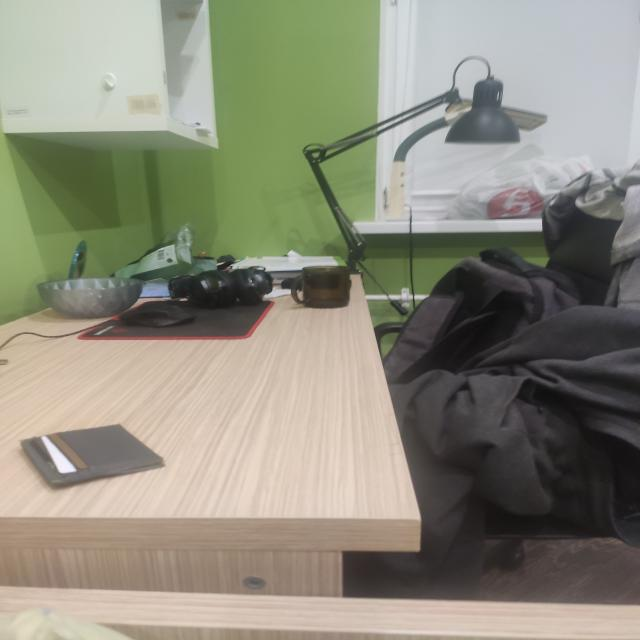cups: (291, 266, 351, 308)
